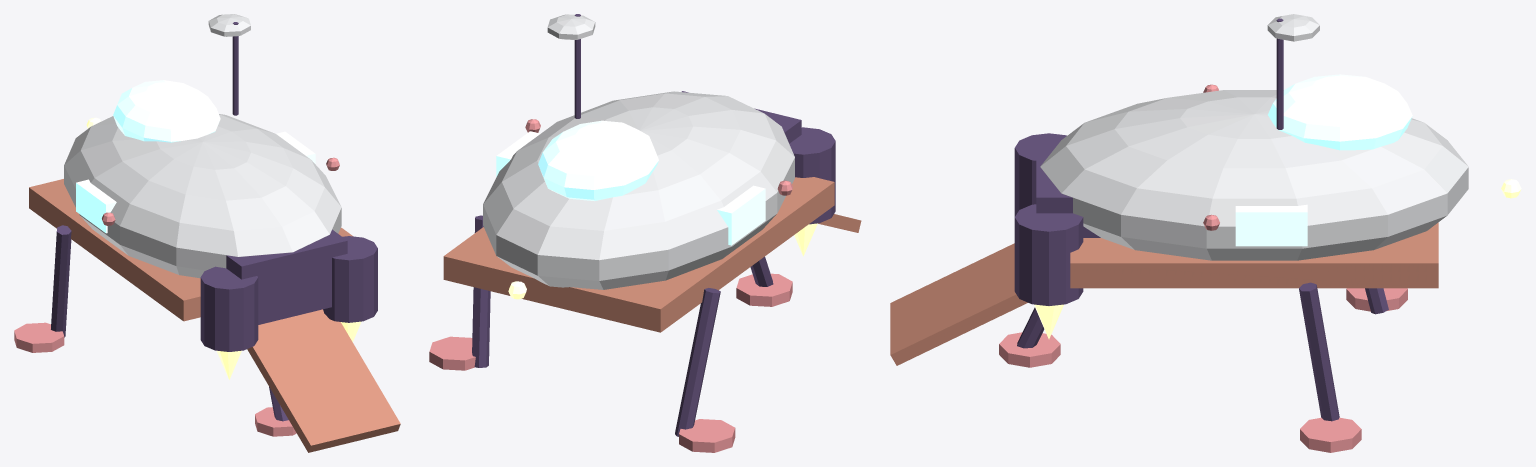
Rendered from lander.glb.
The picture shows the model from 3 angles, left to right: view 1: azimuth 30°, elevation 25°; view 2: azimuth 150°, elevation 25°; view 3: azimuth 270°, elevation 25°; orthographic projection. The views are drawn at different scales.
Visible parts, largest first — view 1: hull, ramp, cargo_bay, stripe, cabin, engine_l, engine_r, leg_1, window_l, foot_1, dish, foot_2 (+2 smaller); view 2: hull, stripe, cabin, leg_1, engine_l, window_l, foot_1, leg_0, foot_2, foot_0, dish, cargo_bay (+4 smaller); view 3: hull, stripe, ramp, cabin, engine_r, window_r, leg_0, foot_0, cargo_bay, engine_l, foot_2, dish (+3 smaller).
Part boxes in pixels (bbox=[...]): hull: bbox=[64, 114, 341, 278]; ramp: bbox=[247, 309, 400, 452]; cargo_bay: bbox=[226, 229, 347, 324]; stripe: bbox=[29, 179, 352, 321]; cabin: bbox=[113, 80, 220, 142]; engine_l: bbox=[200, 266, 258, 351]; engine_r: bbox=[323, 236, 377, 322]; leg_1: bbox=[51, 225, 71, 337]; window_l: bbox=[76, 179, 116, 233]; foot_1: bbox=[14, 322, 64, 352]; dish: bbox=[208, 14, 250, 36]; foot_2: bbox=[255, 407, 296, 436]; hull: bbox=[483, 91, 794, 289]; stripe: bbox=[443, 177, 834, 332]; cabin: bbox=[538, 120, 658, 200]; leg_1: bbox=[675, 288, 720, 436]; engine_l: bbox=[789, 127, 835, 224]; window_l: bbox=[717, 185, 765, 245]; foot_1: bbox=[679, 419, 735, 452]; leg_0: bbox=[472, 215, 490, 367]; foot_2: bbox=[736, 273, 792, 306]; foot_0: bbox=[429, 336, 475, 370]; dish: bbox=[547, 14, 595, 39]; cargo_bay: bbox=[681, 91, 801, 143]; hull: bbox=[1040, 90, 1468, 260]; stripe: bbox=[1070, 222, 1438, 288]; ramp: bbox=[890, 243, 1027, 365]; cabin: bbox=[1268, 74, 1412, 150]; engine_r: bbox=[1014, 204, 1083, 305]; window_r: bbox=[1235, 204, 1307, 246]; leg_0: bbox=[1299, 282, 1339, 421]; foot_0: bbox=[1300, 417, 1361, 452]; cargo_bay: bbox=[1036, 136, 1100, 237]; engine_l: bbox=[1014, 133, 1066, 216]; foot_2: bbox=[999, 332, 1060, 367]; dish: bbox=[1267, 14, 1319, 41].
Size of the model in its own units: 1.42 by 1.49 by 2.29.
